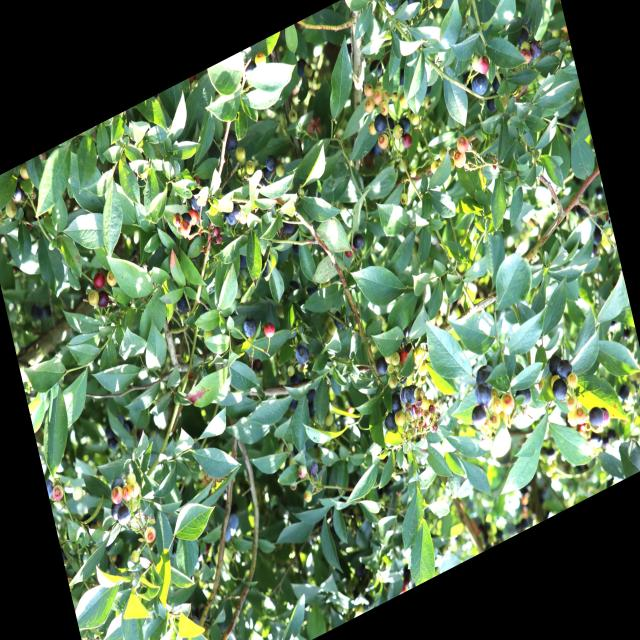blueberry: (471, 359, 496, 396), (238, 310, 261, 345), (468, 69, 490, 100), (185, 186, 206, 217), (222, 199, 243, 228), (469, 402, 488, 432), (474, 382, 493, 412), (514, 383, 534, 411), (550, 376, 569, 404), (587, 402, 605, 430), (526, 36, 544, 63), (115, 503, 133, 530), (372, 112, 390, 138), (556, 357, 574, 382), (544, 353, 562, 378), (294, 341, 311, 367), (491, 72, 509, 96), (403, 382, 420, 407), (331, 308, 348, 332), (484, 90, 501, 113), (388, 392, 404, 416), (108, 497, 124, 521), (225, 511, 241, 535), (383, 411, 398, 435), (368, 58, 384, 80), (374, 355, 390, 377), (110, 472, 126, 494), (396, 115, 412, 136), (295, 57, 309, 81), (224, 132, 239, 154), (264, 152, 278, 174), (259, 168, 274, 188), (242, 58, 257, 78), (350, 232, 365, 251), (617, 382, 631, 402), (181, 210, 195, 230), (105, 434, 119, 454), (383, 0, 400, 14), (398, 0, 416, 13), (396, 69, 407, 88), (398, 387, 409, 406), (104, 424, 116, 440), (307, 401, 318, 418), (114, 412, 125, 429), (306, 388, 316, 402), (637, 388, 640, 410)
blueberry-halfripe: (476, 52, 492, 77), (454, 132, 470, 155), (452, 148, 468, 170), (176, 217, 192, 239), (187, 206, 200, 228), (401, 132, 413, 150), (297, 462, 308, 480)
blueberry-unripe: (498, 388, 517, 418), (485, 409, 502, 431), (572, 405, 588, 428), (565, 392, 580, 415), (565, 369, 580, 391), (385, 371, 400, 393), (392, 408, 407, 430), (233, 145, 248, 167), (252, 50, 268, 70), (566, 407, 579, 431), (376, 130, 390, 152), (362, 96, 377, 116), (391, 121, 405, 142), (490, 396, 504, 416), (423, 396, 437, 416), (497, 409, 510, 430), (363, 81, 376, 102), (379, 99, 392, 118), (244, 158, 256, 178), (398, 92, 410, 112), (380, 86, 392, 106), (366, 118, 378, 138), (408, 110, 421, 128), (287, 106, 299, 125), (372, 88, 384, 106), (390, 350, 402, 367), (416, 362, 428, 378), (412, 346, 424, 362), (399, 190, 410, 207), (275, 163, 286, 180), (302, 488, 312, 506), (390, 88, 400, 105)
